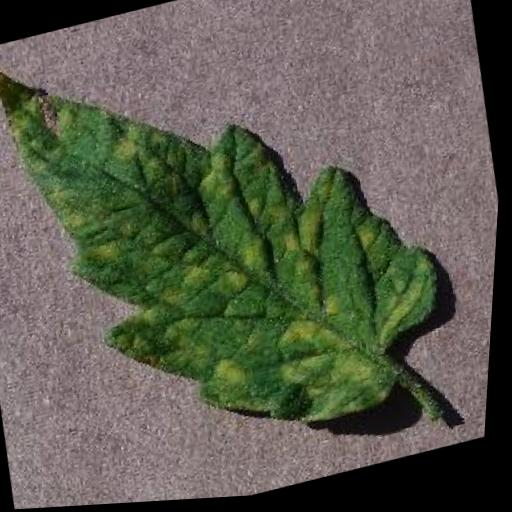Leaf Mold: (0, 0, 474, 496)
